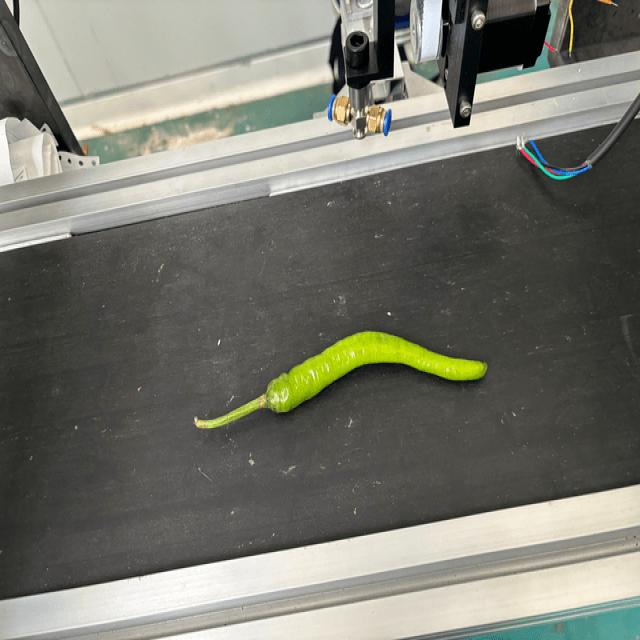chili: (264, 329, 490, 416)
